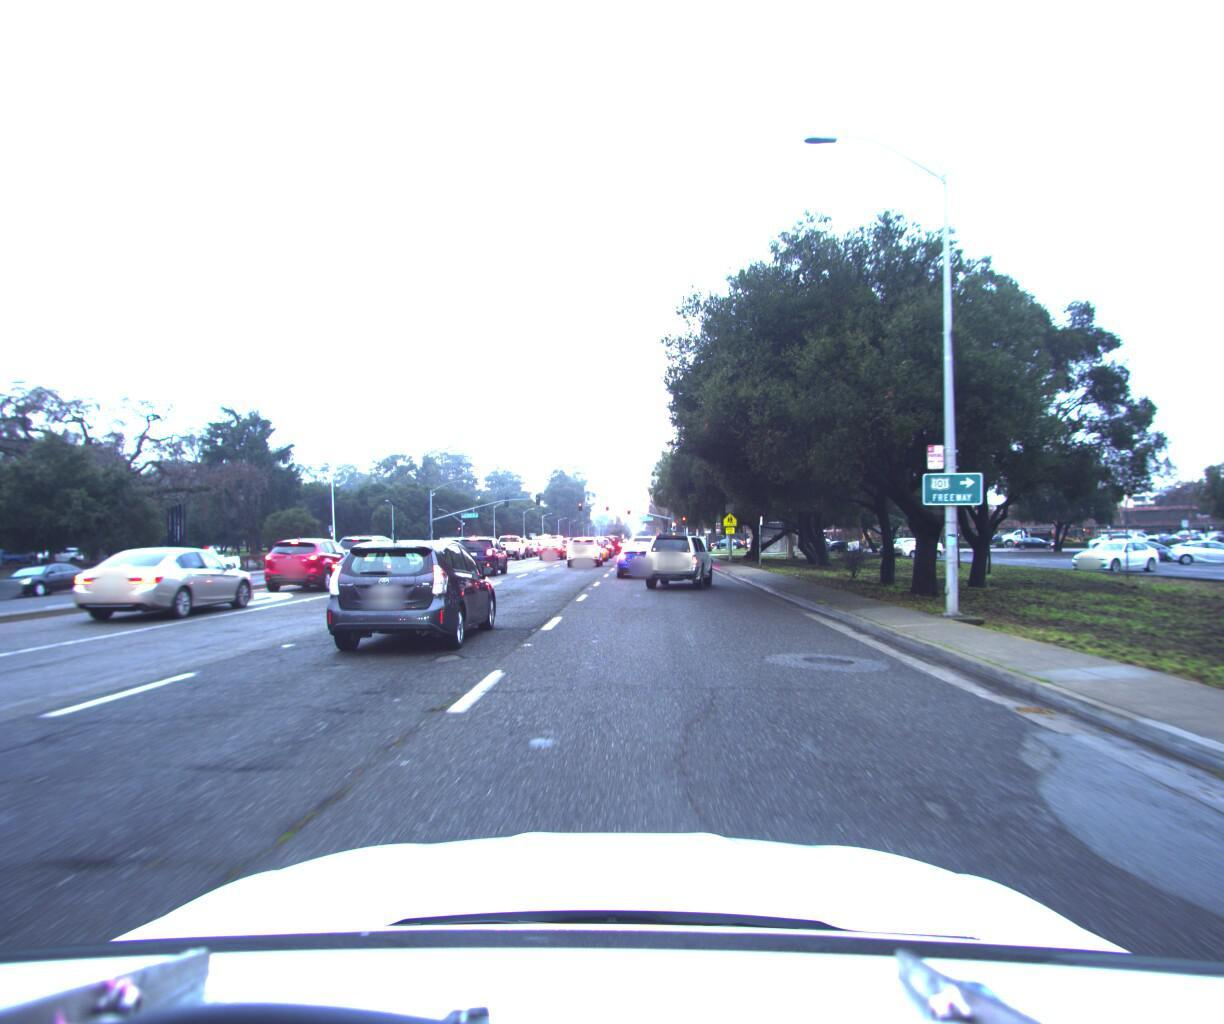car: (321, 533, 506, 657), (56, 537, 270, 627), (327, 538, 442, 602), (261, 532, 368, 593), (0, 557, 101, 602), (641, 528, 716, 587), (329, 529, 413, 580), (162, 543, 245, 583), (453, 529, 511, 573), (396, 537, 455, 570), (619, 534, 665, 576), (431, 531, 480, 566), (458, 530, 501, 562), (565, 530, 606, 563), (489, 529, 531, 559), (628, 529, 659, 560), (536, 535, 568, 556), (589, 532, 614, 554)
